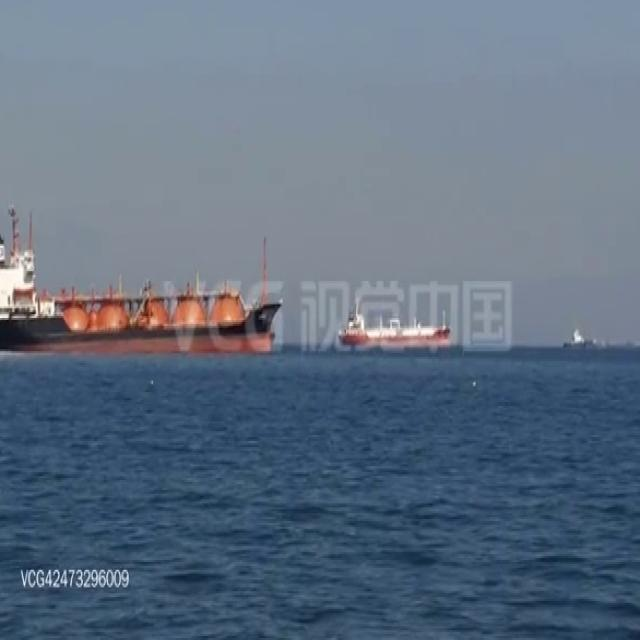cargoship: (0, 197, 282, 355), (336, 298, 452, 356), (559, 321, 598, 349)
